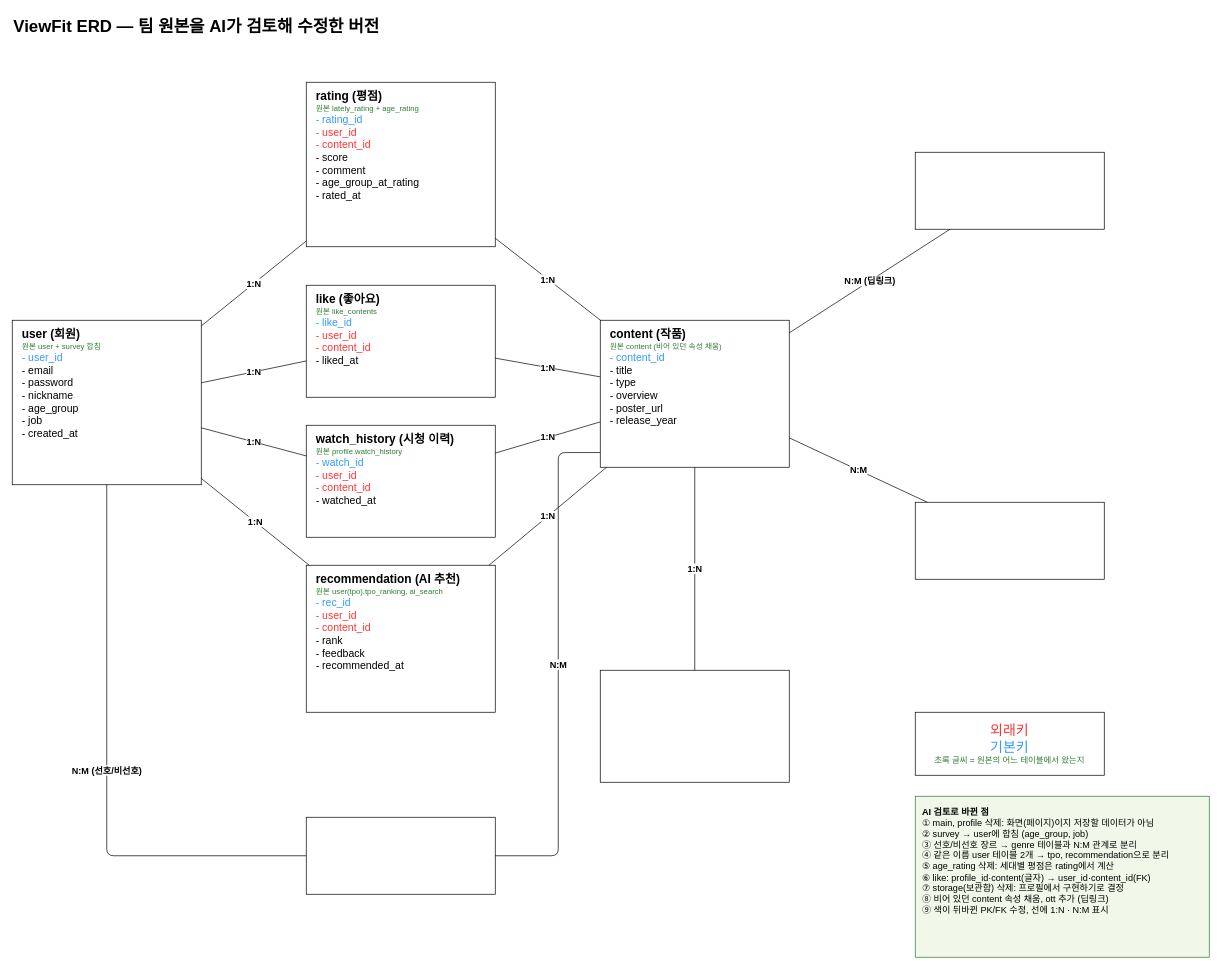
Image size: 1222x970. Some labels were removed from this diagram. The box of each missing label's shape, as (x1, y1, x2, y2) in pixels:
genre (장르) 신규: survey의 선호 장르를 분리 - genre_id - name: (306, 817, 495, 894)
ott (OTT 플랫폼) 신규: 딥링크 이동용 - ott_id - name: (915, 152, 1104, 229)
ranking (통합 랭킹) 원본 total ranking - ranking_id - content_id - rank - ranked_at: (600, 670, 789, 782)
tpo (상황) 원본 user(tpo)에서 분리 - tpo_id - name: (915, 502, 1104, 579)
